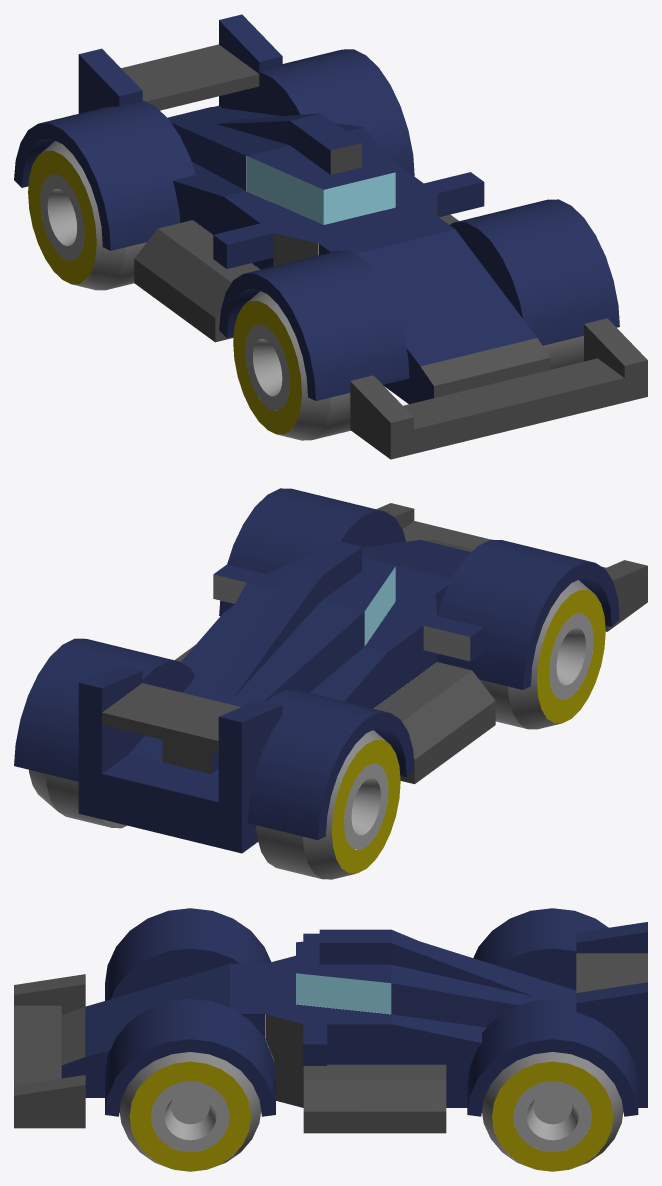
File: race-futrure.glb
The picture shows the model from 3 angles, top to bottom: view 1: azimuth 30°, elevation 25°; view 2: azimuth 150°, elevation 25°; view 3: azimuth 270°, elevation 25°; orthographic projection. The views are drawn at different scales.
Visible parts, largest first — view 1: body.006; view 2: body.006; view 3: body.006.
Boxes of the visible parts, <box> form: body.006: <box>14,14,647,459</box>; body.006: <box>14,488,647,879</box>; body.006: <box>14,908,647,1171</box>.
Bounding box in the file's own units: 1.3 × 0.8329 × 2.66.
Materials: 1 (1 with a texture image).
